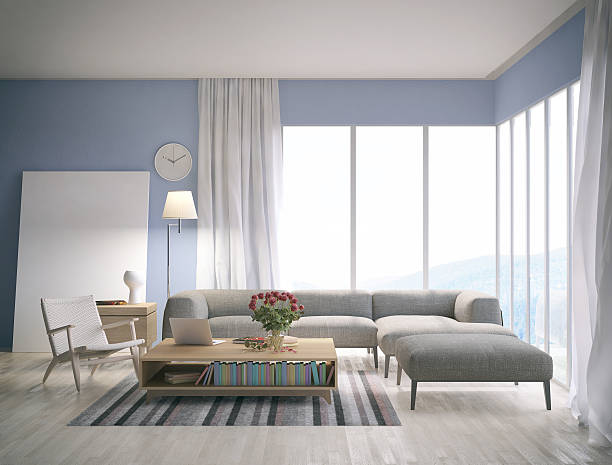chair: (37, 292, 146, 394)
floor lamp: (158, 187, 201, 297)
flower vase: (247, 288, 304, 352)
sofa: (160, 285, 556, 414)
table: (140, 338, 340, 404)
